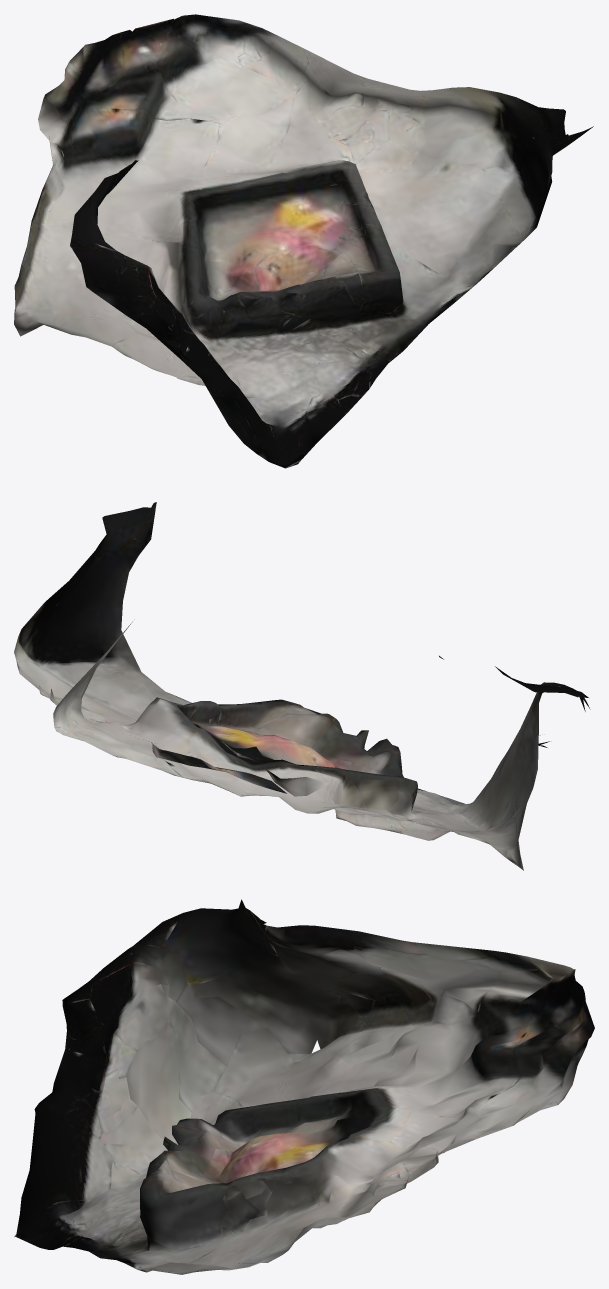
File: hall.glb
The picture shows the model from 3 angles, top to bottom: view 1: azimuth 30°, elevation 25°; view 2: azimuth 150°, elevation 25°; view 3: azimuth 270°, elevation 25°; orthographic projection. The views are drawn at different scales.
Bounding box in the file's own units: 0.7582 × 0.363 × 0.6697.
1 material, 1 textured.
